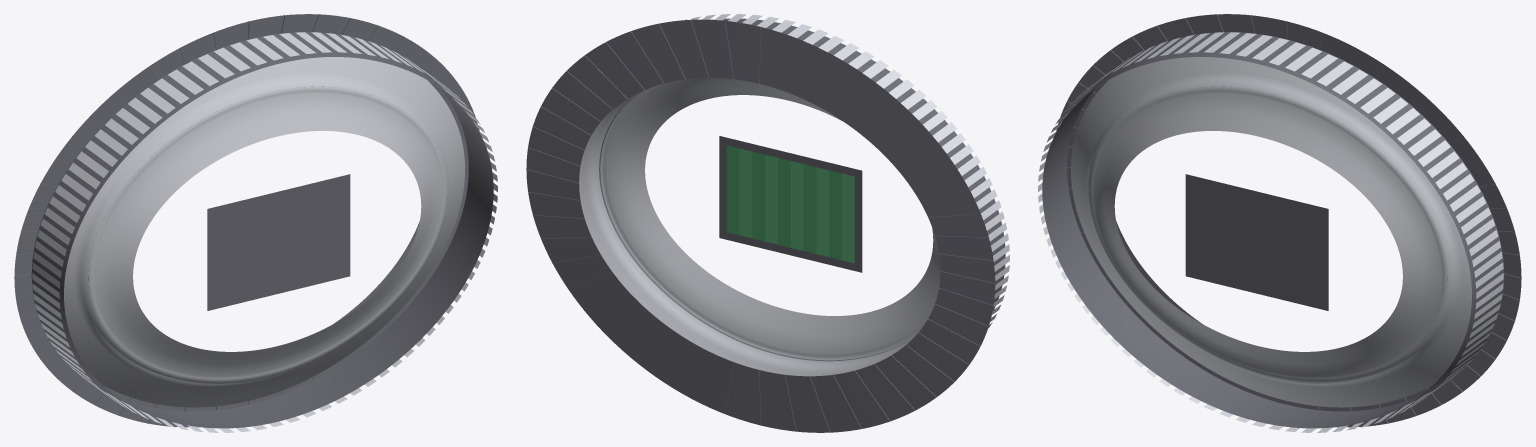
File: stadium_fixed.glb
The picture shows the model from 3 angles, left to right: view 1: azimuth 30°, elevation 25°; view 2: azimuth 150°, elevation 25°; view 3: azimuth 330°, elevation 25°; orthographic projection.
Parts seen in each view (by area): view 1: stadium_fixed; view 2: stadium_fixed; view 3: stadium_fixed.
Part boxes in pixels (left/top/right/bottom): stadium_fixed: left=14, top=14, right=497, bottom=432; stadium_fixed: left=526, top=14, right=1009, bottom=432; stadium_fixed: left=1038, top=14, right=1521, bottom=432.
Size of the model in its own units: 384 by 312 by 44.6.
